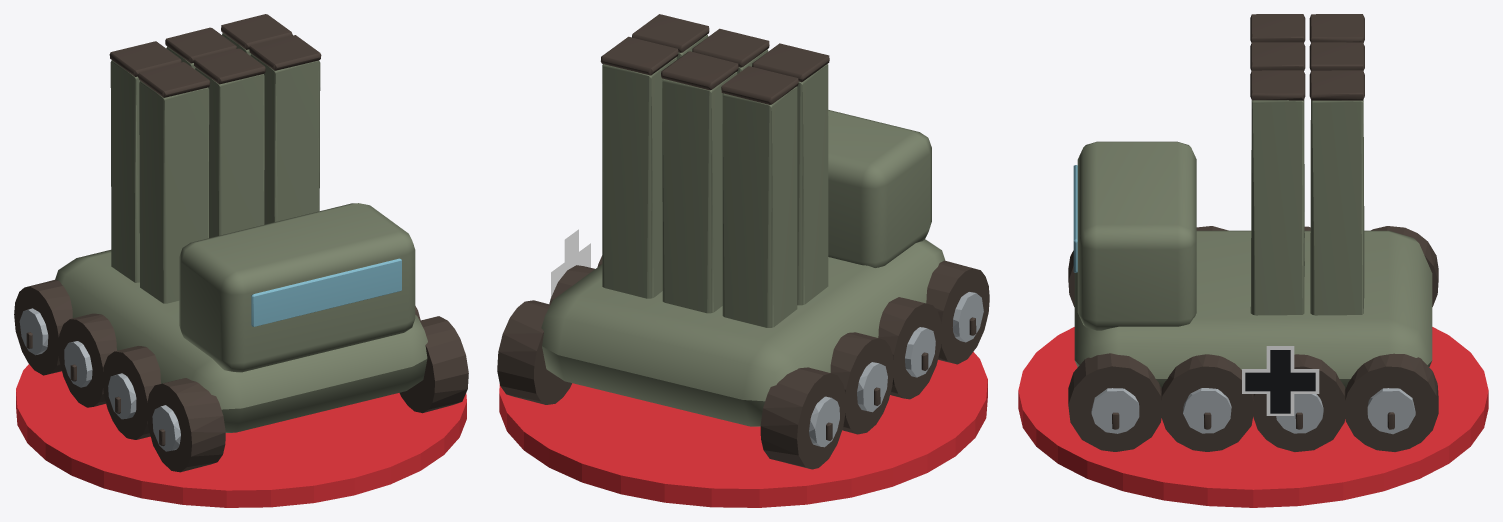
File: germany_missile_lod0.glb
3 views of the same model, side by side, from view 1: azimuth 30°, elevation 25°; view 2: azimuth 150°, elevation 25°; view 3: azimuth 270°, elevation 25° (orthographic). The views are drawn at different scales.
Visible parts, largest first — view 1: body_hull, base_pedestal; view 2: body_hull, base_pedestal; view 3: body_hull, base_pedestal.
Boxes of the visible parts, bbox=[...] form: body_hull: bbox=[14, 14, 468, 472]; base_pedestal: bbox=[16, 364, 466, 507]; body_hull: bbox=[497, 14, 989, 469]; base_pedestal: bbox=[499, 352, 987, 507]; body_hull: bbox=[1068, 14, 1438, 451]; base_pedestal: bbox=[1018, 327, 1488, 507].
Bounding box in the file's own units: 0.78 × 0.6499 × 0.78.
